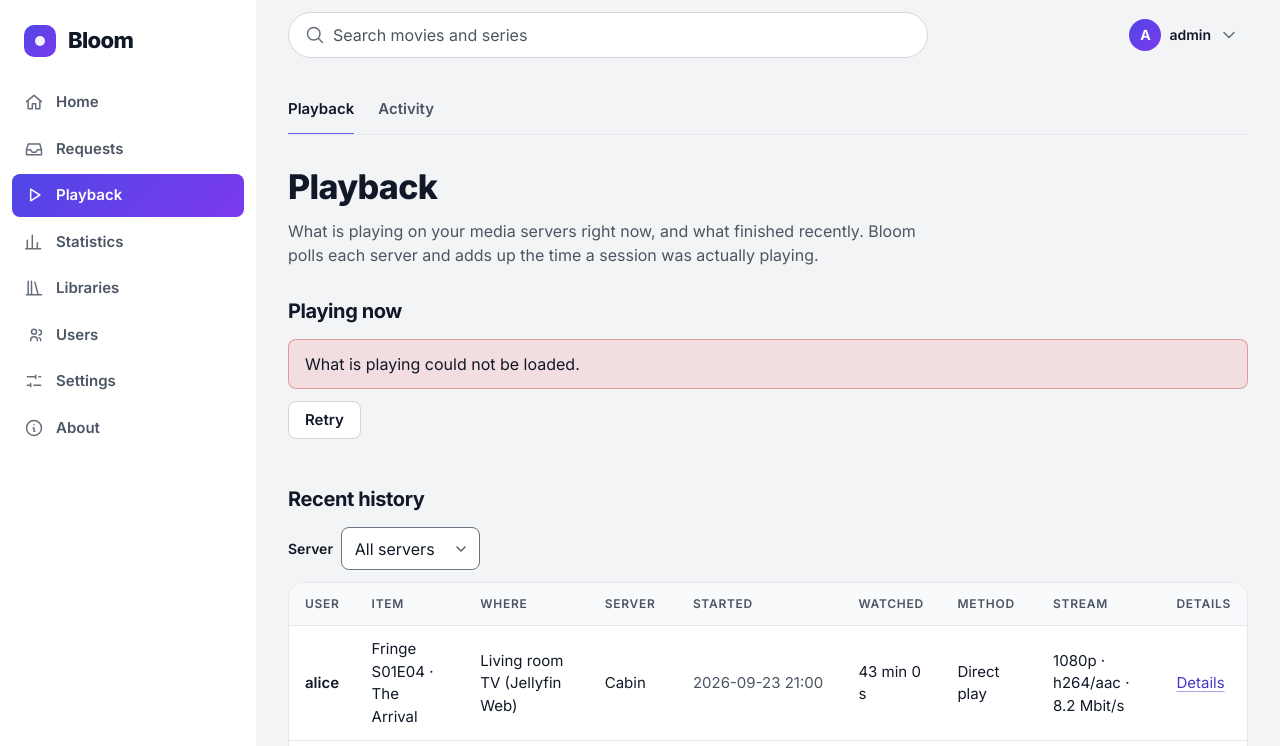
Test: offers a retry when what is playing cannot be loaded at all
Expected: the message reads "What is playing could not be loaded.", [305, 354, 580, 374]
Click the button "Retry".
click(324, 420)  # box [288, 401, 361, 439]
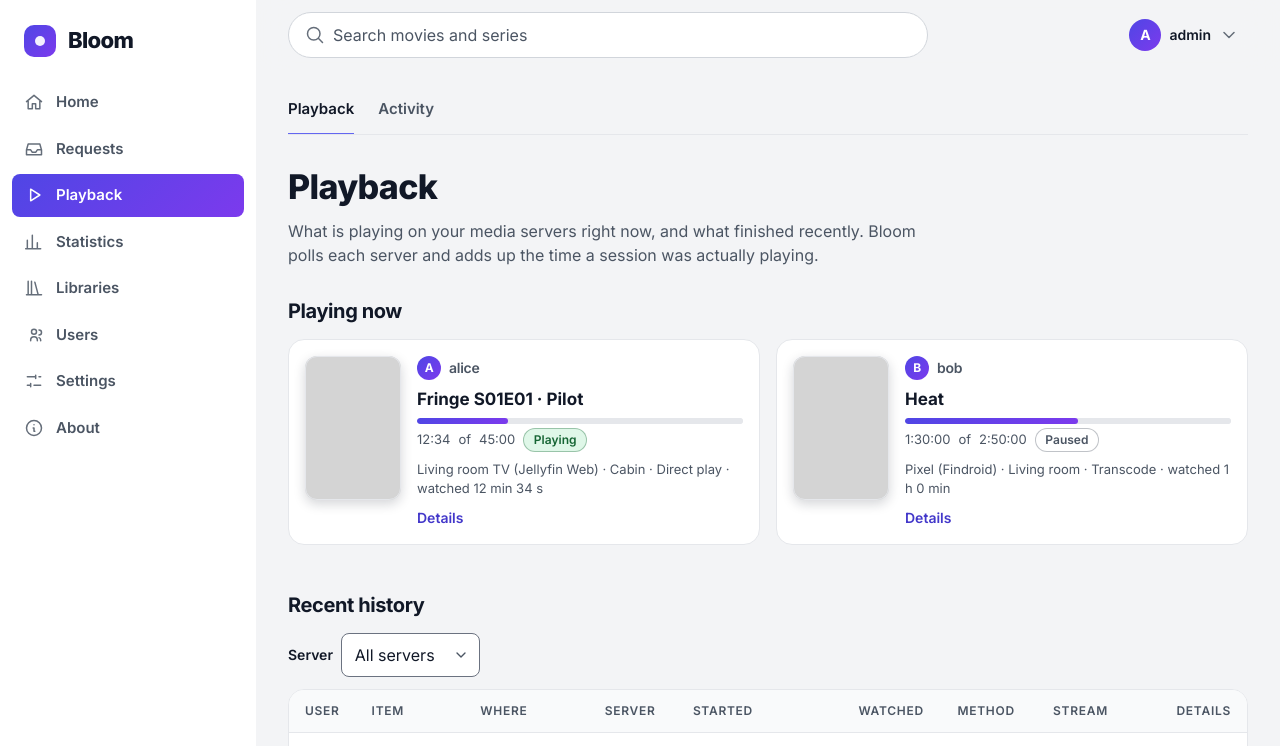
Now the list named "Playing now" is shown, box [288, 339, 1248, 545]
